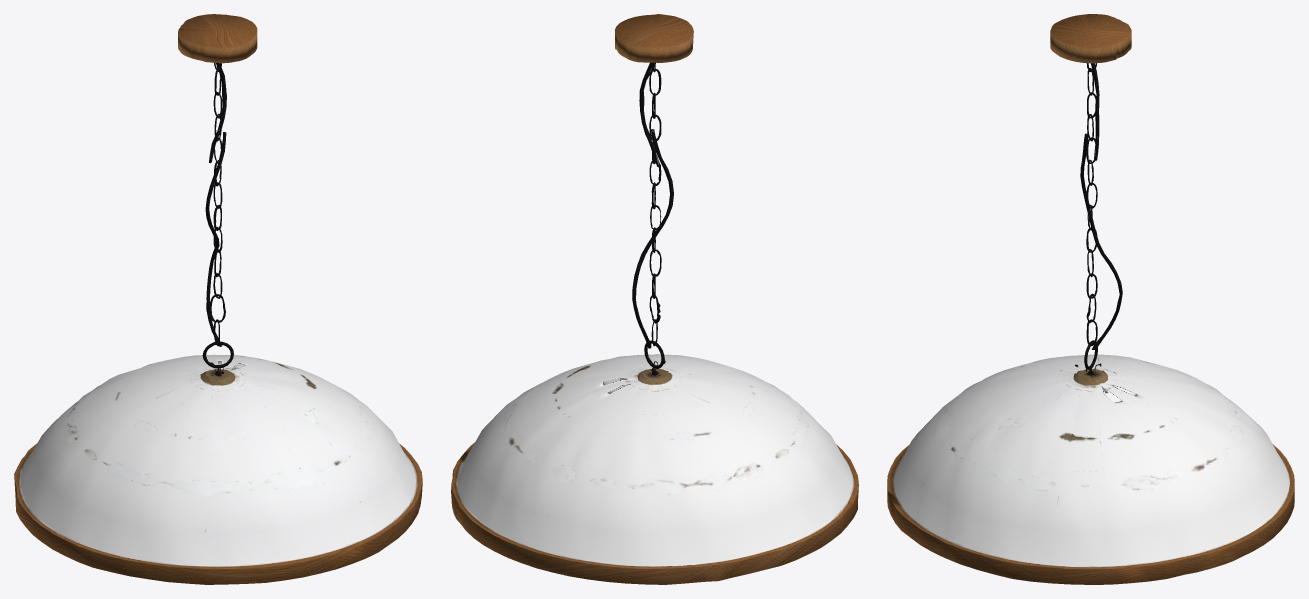
The model's file is Meshy_AI_Modern_Wooden_Halo_Pe_1020124613_texture.glb.
3 views of the same model, side by side, from view 1: azimuth 30°, elevation 25°; view 2: azimuth 150°, elevation 25°; view 3: azimuth 270°, elevation 25° (orthographic).
Bounding box in the file's own units: 0.666 × 0.9517 × 0.6655.
1 material, 1 textured.
